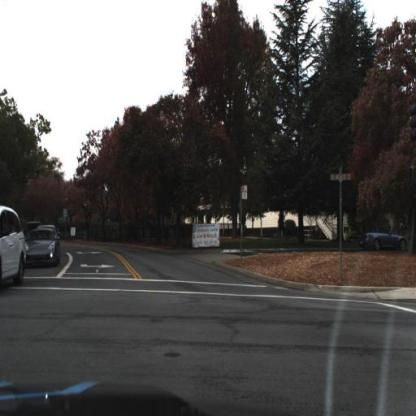car: (1, 204, 26, 293), (23, 230, 63, 270), (361, 225, 410, 252)
